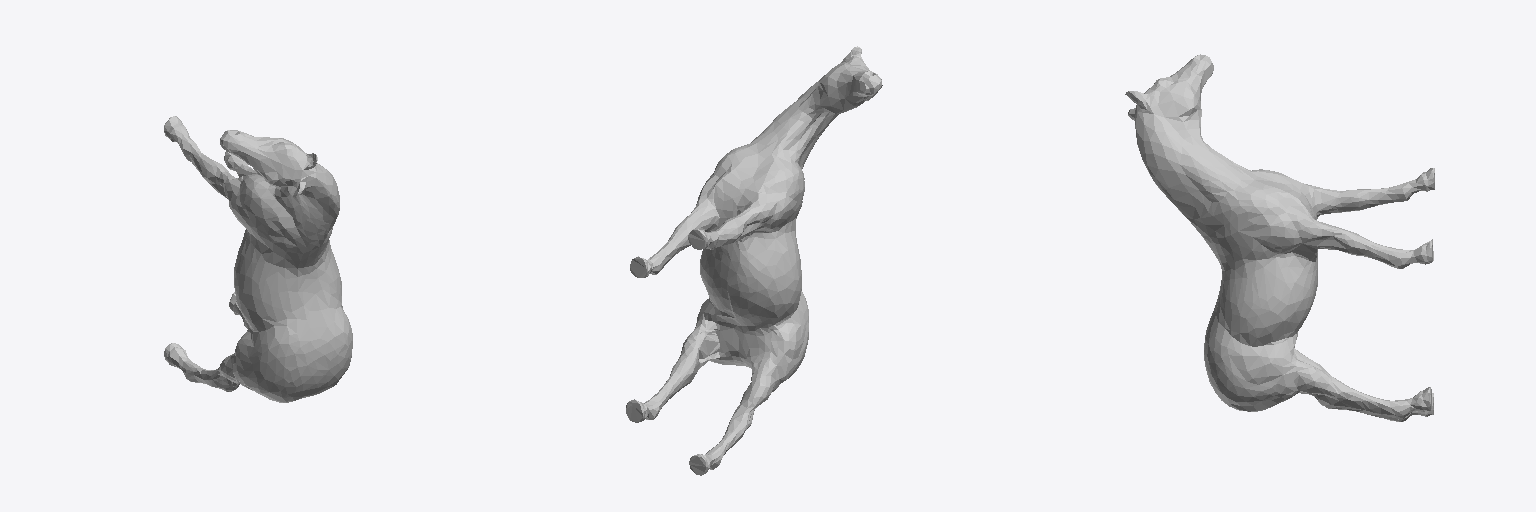
Rendered from Horse.obj.
The picture shows the model from 3 angles: view 1: azimuth 30°, elevation 25°; view 2: azimuth 150°, elevation 25°; view 3: azimuth 270°, elevation 25°; orthographic projection.
Parts seen in each view (by area): view 1: Horse; view 2: Horse; view 3: Horse.
Boxes of the visible parts, <box> form: Horse: <box>164,116,352,402</box>; Horse: <box>626,46,882,475</box>; Horse: <box>1125,54,1434,421</box>.
Size of the model in its own units: 0.9168 by 2 by 1.67.